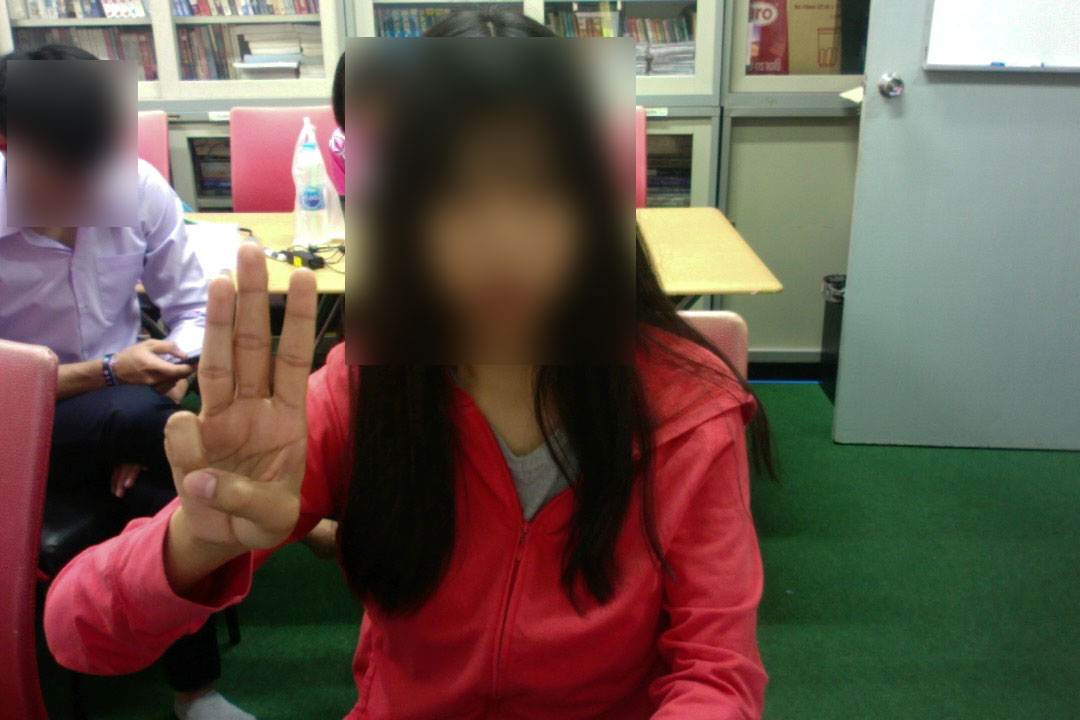wor: (149, 240, 326, 566)
